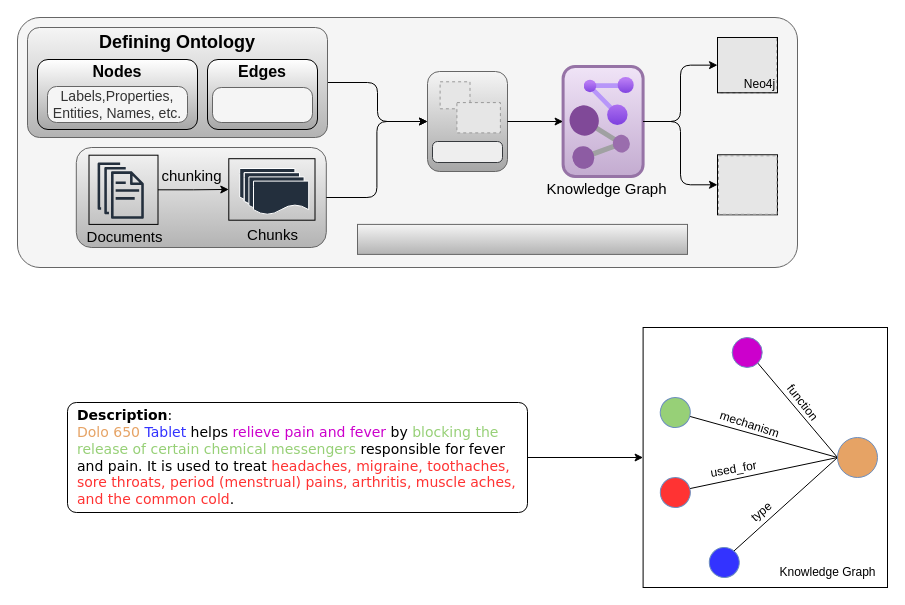
The diagram is 905 pixels wide and 605 high, and some of its shapes have lost their labels. Grey dashed boxes stand in for pictures. The shapes that lost their labels are listed below. From the top down, each one's centre as x and y in pixels, then its label:
At [262,104]: "Relationships, Connections".
At [467,151]: "osLLMs".
At [522,238]: "Text to Knowledge Graph Creation".
